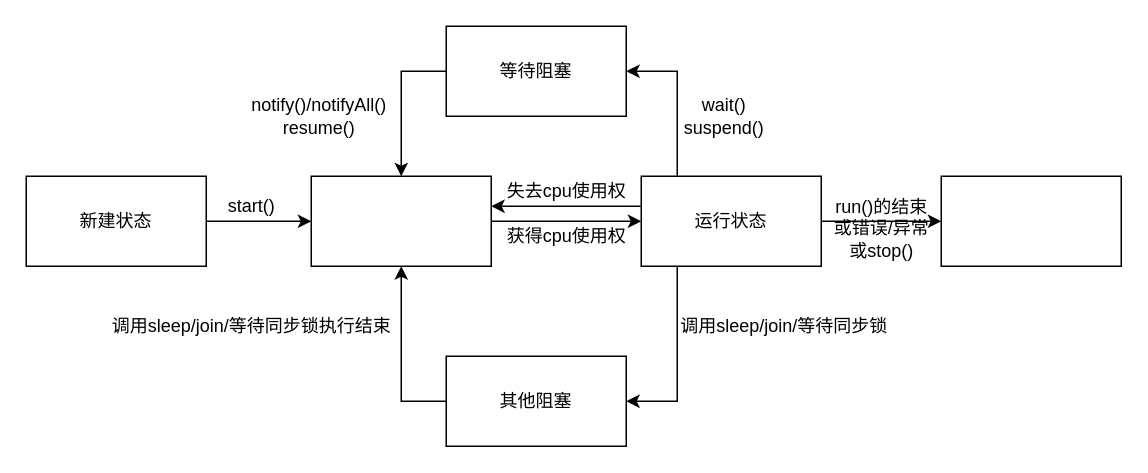
This 1148x473 diagram has some shape labels left out. The shapes that lost their labels are listed below. From the top down, each one's centre as x and y in pixels, then its label:
the point at 400,220: 就绪状态
the point at 1030,220: 死亡状态
